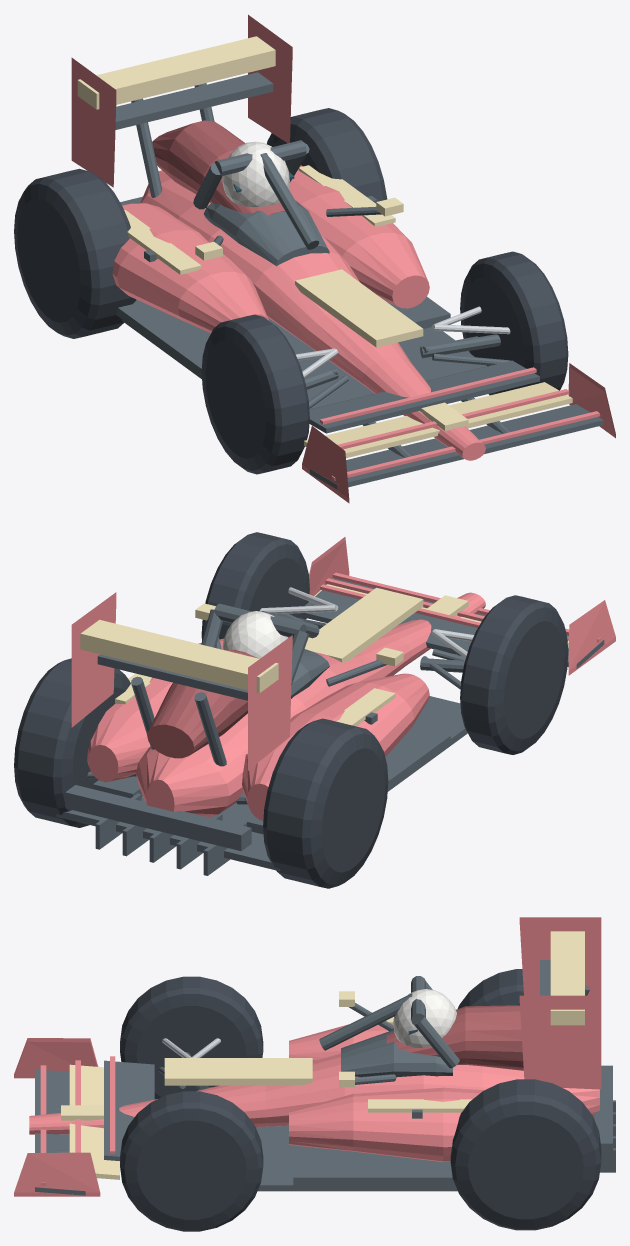
File: ferrari_high.glb
3 renders of one model, top to bottom at view 1: azimuth 30°, elevation 25°; view 2: azimuth 150°, elevation 25°; view 3: azimuth 270°, elevation 25°, orthographic. The views are drawn at different scales.
Parts seen in each view (by area): view 1: BODY_paint, BODY_carbon, BODY_accent, RearLeftWheel_rubber, FrontLeftWheel_rubber, FrontRightWheel_rubber, RearRightWheel_rubber, BODY_paint_dark, BODY_helmet, BODY_metal; view 2: BODY_paint, BODY_carbon, RearLeftWheel_rubber, FrontLeftWheel_rubber, BODY_accent, RearRightWheel_rubber, FrontRightWheel_rubber, BODY_paint_dark, BODY_helmet, BODY_metal; view 3: BODY_paint, BODY_carbon, RearRightWheel_rubber, FrontRightWheel_rubber, BODY_accent, FrontLeftWheel_rubber, BODY_paint_dark, BODY_helmet, RearLeftWheel_rubber.
Boxes of the visible parts, <box> form: BODY_paint: <box>71,14,615,503</box>; BODY_carbon: <box>115,72,603,489</box>; BODY_accent: <box>77,36,572,458</box>; RearLeftWheel_rubber: <box>14,168,136,338</box>; FrontLeftWheel_rubber: <box>201,314,309,474</box>; FrontRightWheel_rubber: <box>460,251,568,395</box>; RearRightWheel_rubber: <box>267,108,387,201</box>; BODY_paint_dark: <box>152,120,284,215</box>; BODY_helmet: <box>222,141,289,206</box>; BODY_metal: <box>295,306,510,377</box>; BODY_paint: <box>71,537,615,820</box>; BODY_carbon: <box>56,578,604,875</box>; RearLeftWheel_rubber: <box>263,718,388,888</box>; FrontLeftWheel_rubber: <box>460,595,568,754</box>; BODY_accent: <box>80,584,568,726</box>; RearRightWheel_rubber: <box>14,658,130,827</box>; FrontRightWheel_rubber: <box>201,532,309,640</box>; BODY_paint_dark: <box>147,649,258,758</box>; BODY_helmet: <box>222,611,288,658</box>; BODY_metal: <box>260,587,474,658</box>; BODY_paint: <box>14,917,601,1196</box>; BODY_carbon: <box>35,960,615,1195</box>; RearRightWheel_rubber: <box>450,1079,601,1230</box>; FrontRightWheel_rubber: <box>120,1091,263,1231</box>; BODY_accent: <box>61,931,584,1179</box>; FrontLeftWheel_rubber: <box>120,976,263,1099</box>; BODY_paint_dark: <box>386,1005,523,1070</box>; BODY_helmet: <box>393,989,456,1047</box>; RearLeftWheel_rubber: <box>457,969,523,1008</box>.
Size of the model in its own units: 2.59 by 1.9 by 4.88.
